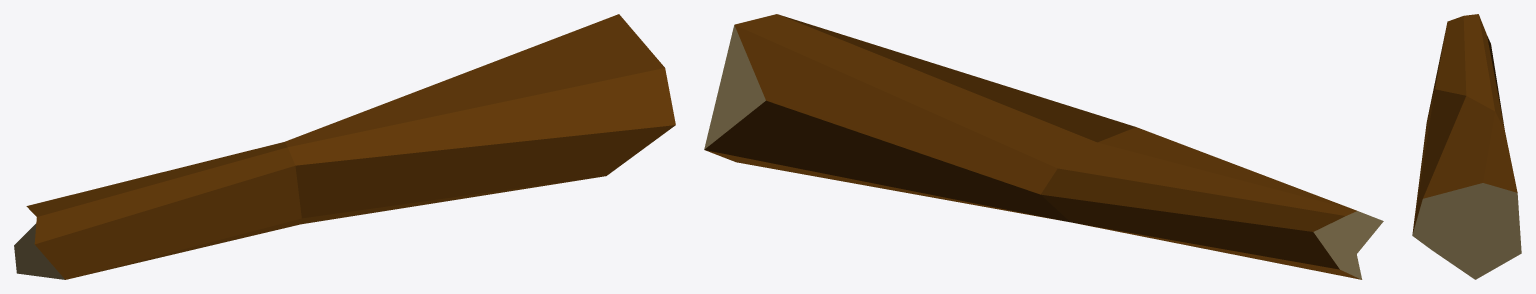
The model's file is Log3.fbx.
3 views of the same model, side by side, from view 1: azimuth 30°, elevation 25°; view 2: azimuth 150°, elevation 25°; view 3: azimuth 270°, elevation 25° (orthographic). The views are drawn at different scales.
Parts seen in each view (by area): view 1: Cylinder; view 2: Cylinder; view 3: Cylinder.
Part boxes in pixels (bbox=[...]): Cylinder: bbox=[14, 14, 675, 279]; Cylinder: bbox=[704, 14, 1383, 279]; Cylinder: bbox=[1412, 14, 1521, 279].
Size of the model in its own units: 345 by 74.95 by 77.51.
